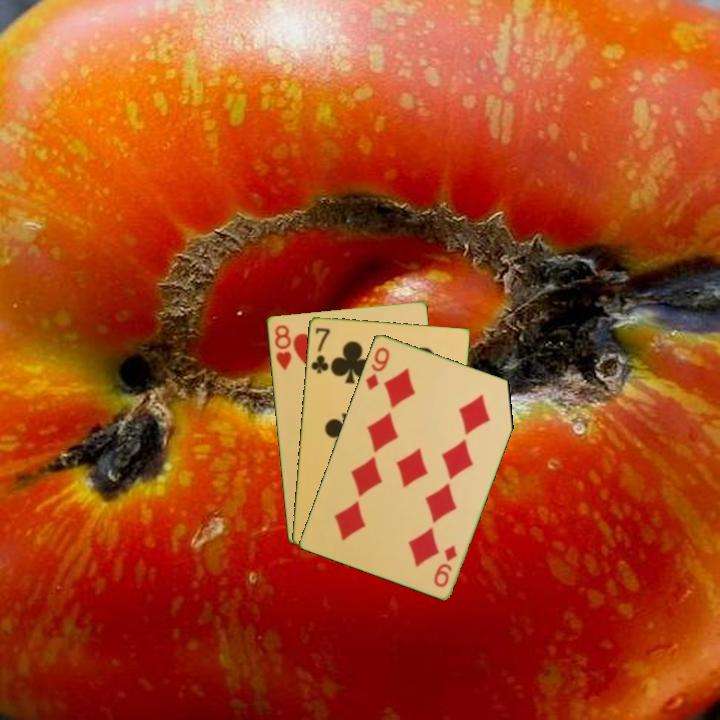7c: (307, 324, 333, 376)
8h: (271, 321, 294, 373)
9d: (362, 343, 393, 393), (430, 541, 460, 590)
